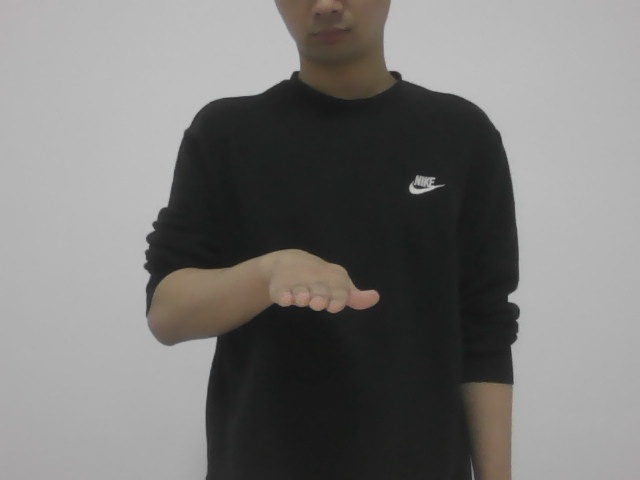slow: (252, 238, 387, 323)
